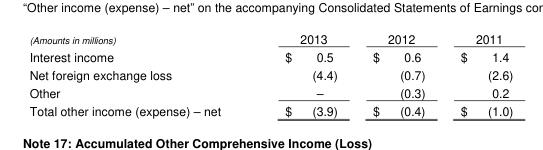table: (28, 29, 512, 118)
table column: (28, 29, 252, 118), (252, 29, 354, 118), (354, 29, 442, 118), (442, 29, 512, 118)
table column header: (28, 29, 512, 47)
table row: (28, 82, 512, 101), (28, 29, 512, 47), (28, 47, 512, 65), (28, 65, 512, 82), (28, 101, 512, 118)
